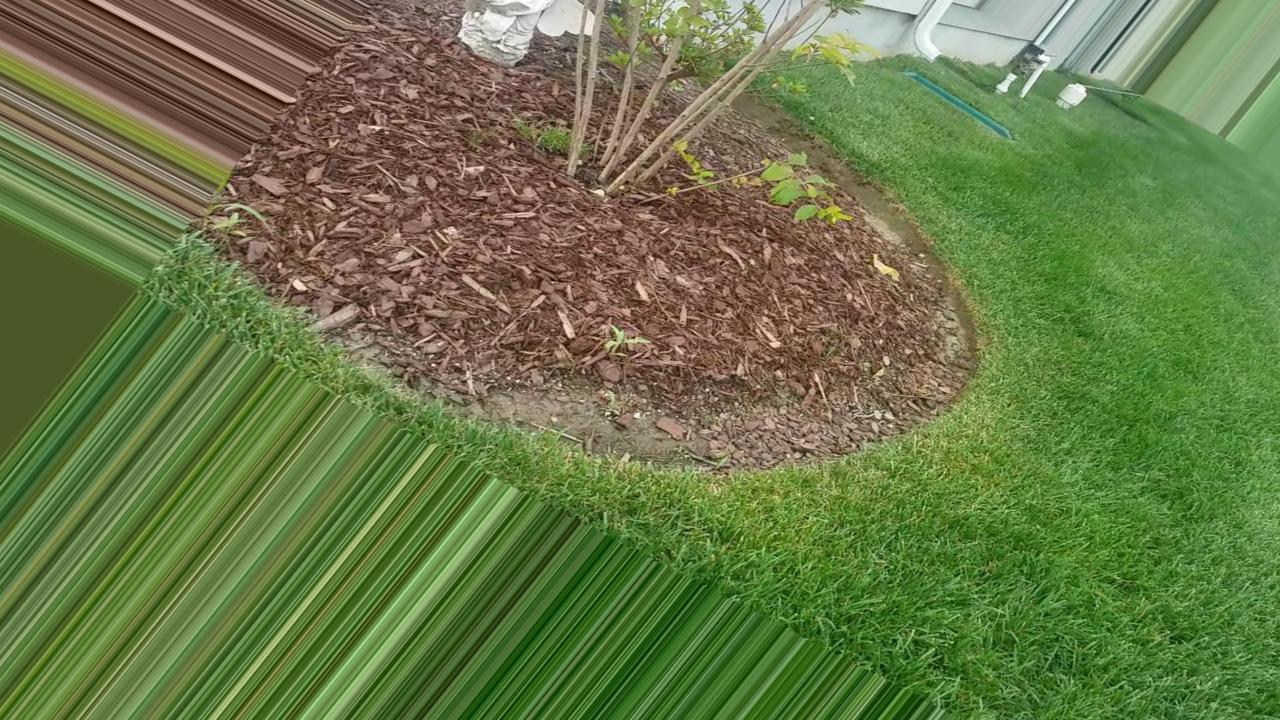patch: (358, 35, 839, 392)
